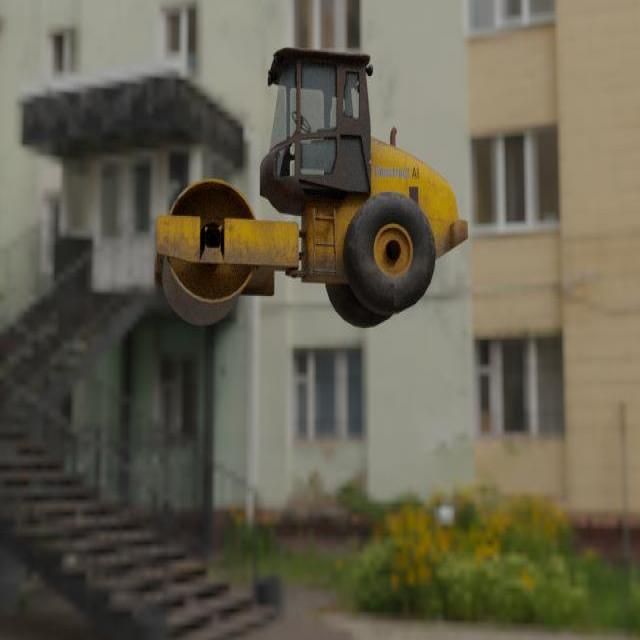Roller: (153, 45, 468, 328)
